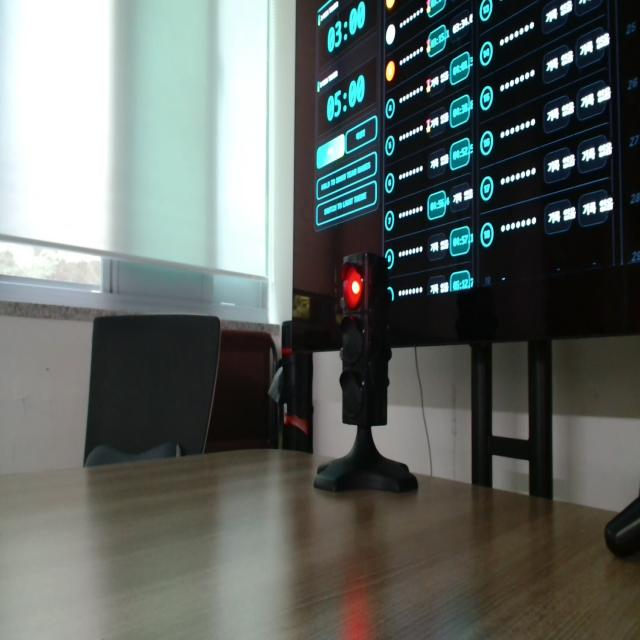red_light: (343, 265, 363, 309)
